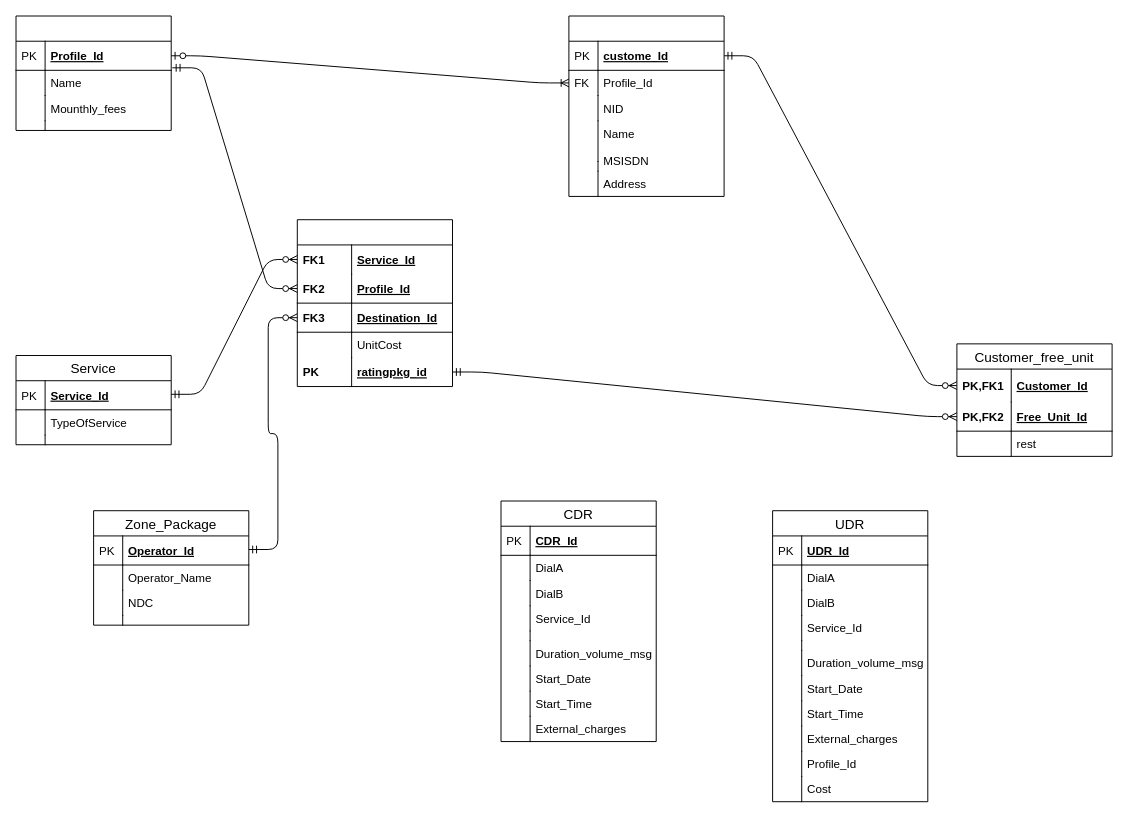
Image size: 1128x818. Some labels were removed from this diagram. The shapes that lost their labels are listed below. From the top down, each one's box as (x1, y1, x2, y2) in pixels, then its label:
(15, 15, 171, 130): RatePlane
(568, 15, 724, 196): customer
(296, 219, 453, 387): Rating_Package
